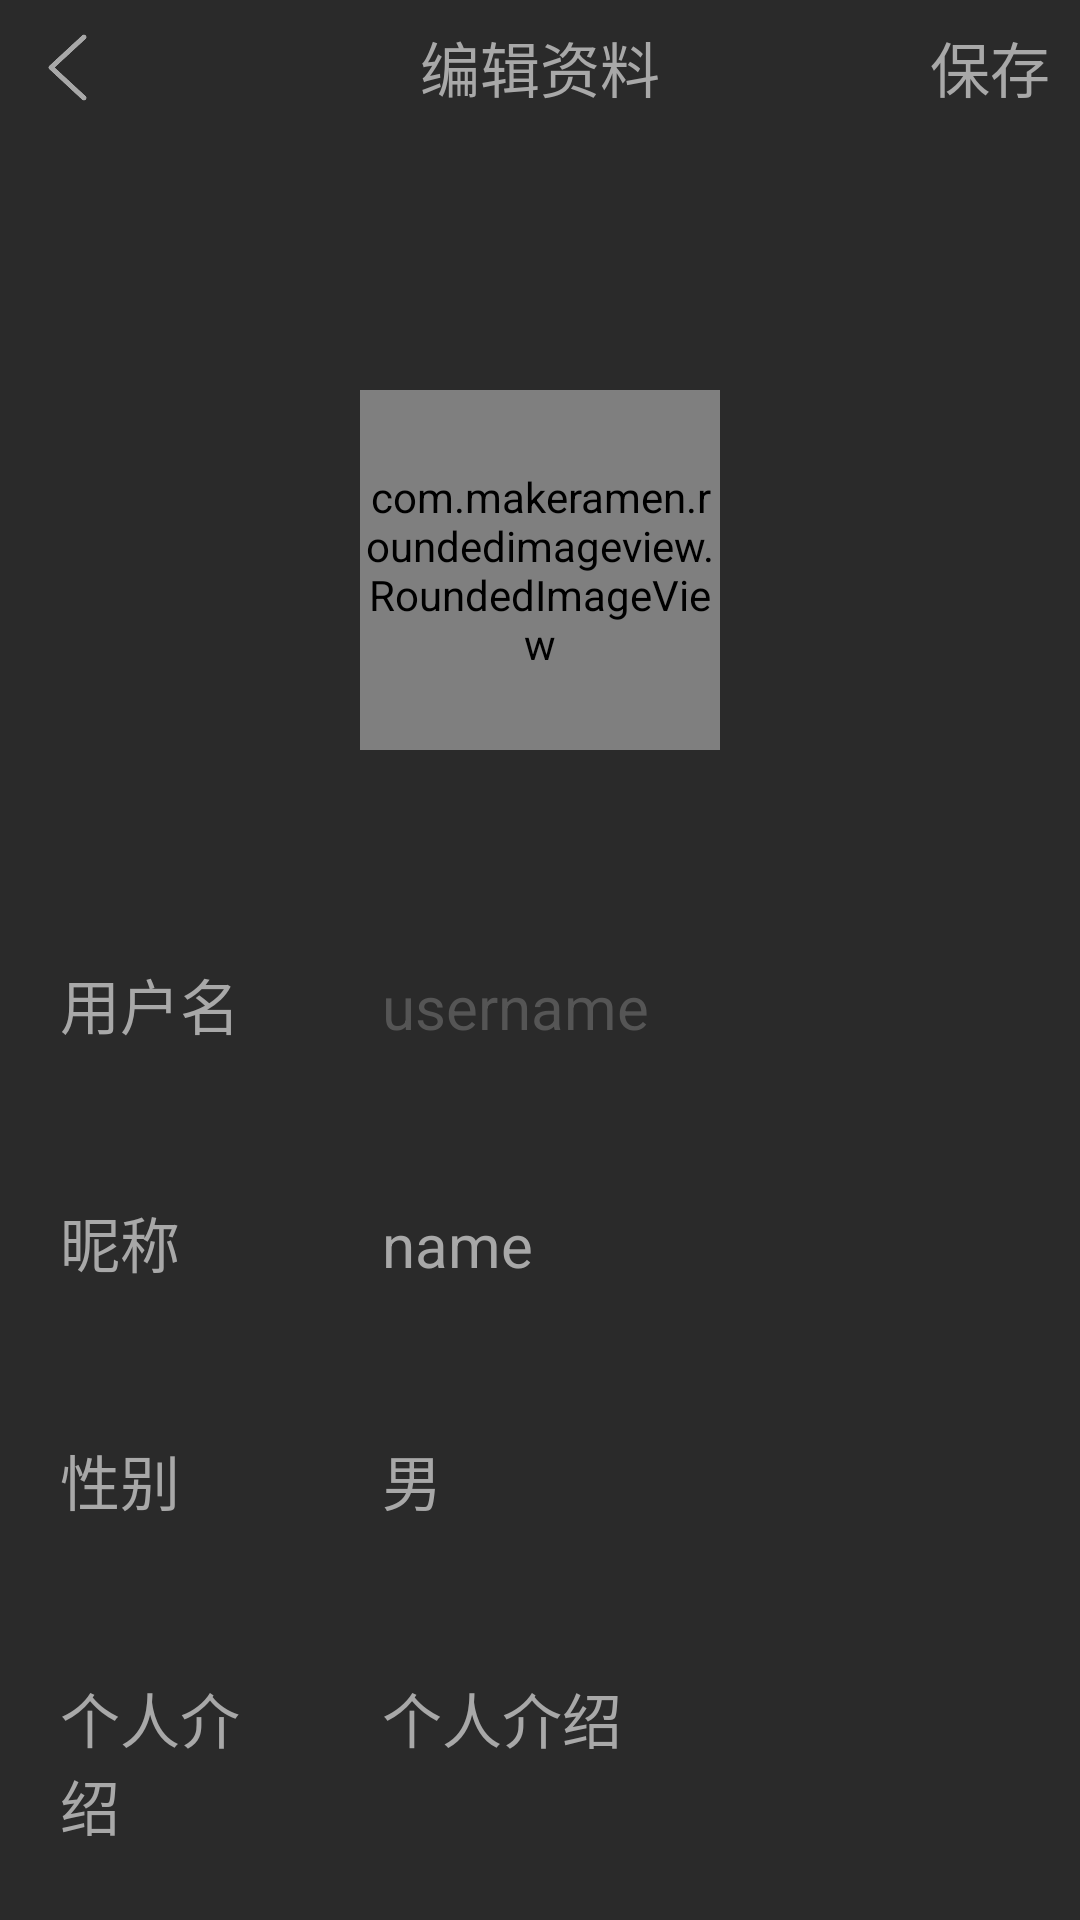

Where icons sit on this 1080px×1920px app screen, as (x1, y1, x2, y2):
ba home return: (48, 34, 87, 101)
